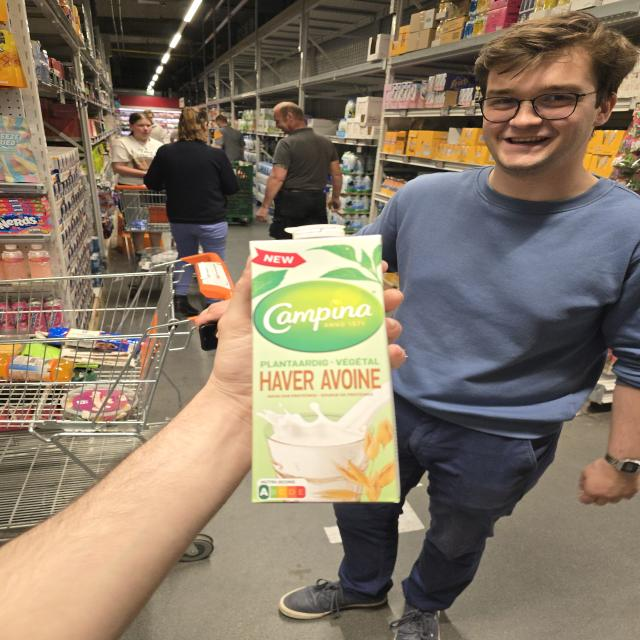Milk: (252, 226, 401, 503)
